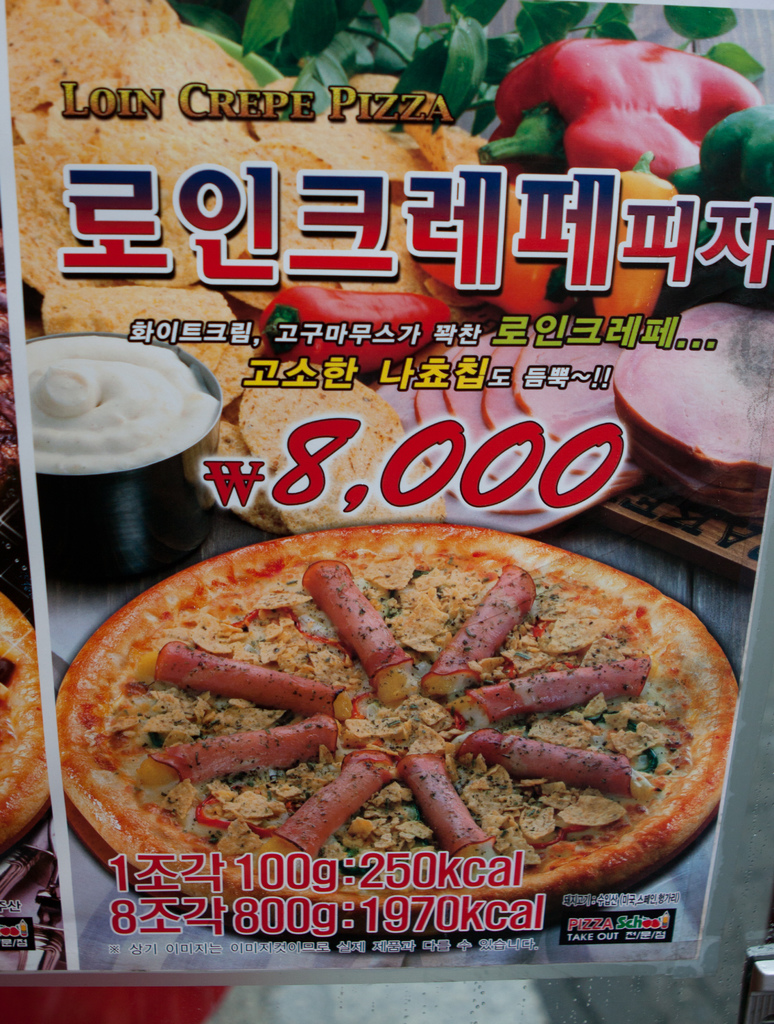Pizza: (56, 523, 749, 928), (0, 592, 37, 858)
